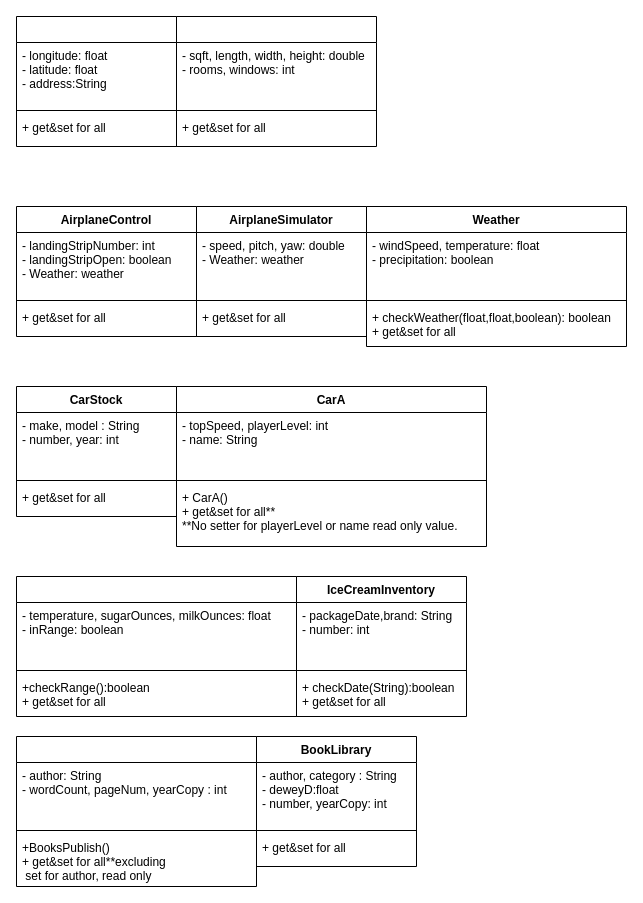
Image size: 643x903. Some labels were removed from this diagram. The shapes that lost their labels are listed below. From the top down, each one's box as (x1, y1, x2, y2) in pixels, then its label:
(16, 16, 176, 146): HouseGps
(176, 16, 376, 146): HouseDesign
(16, 576, 296, 716): IceCreamMachine
(16, 736, 256, 886): BookPublish
